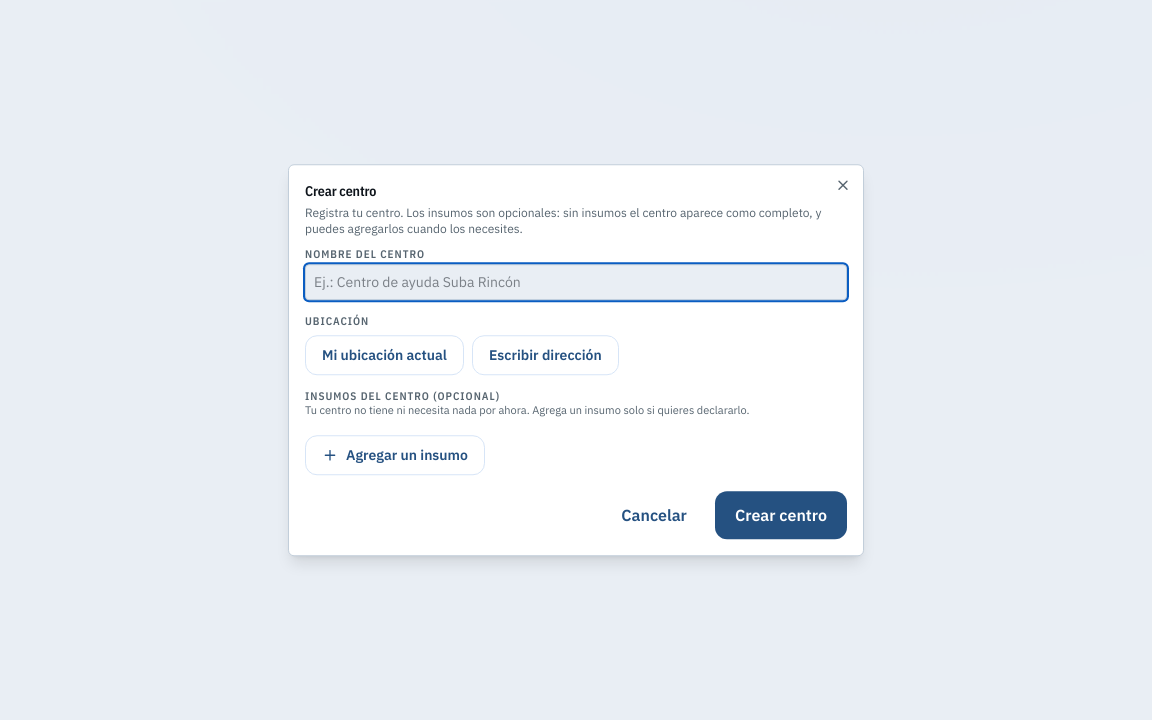
Test: CreateCenterDialog › stays open and shows the backend message when the creation is rejected
Type "Acopio Suba Norte" into the field labelled "Nombre del centro".
click(576, 282); type("Acopio Suba Norte")  # box [305,264,847,300]
Click the button "Mi ubicación actual".
click(384, 355)  # box [305,335,464,375]
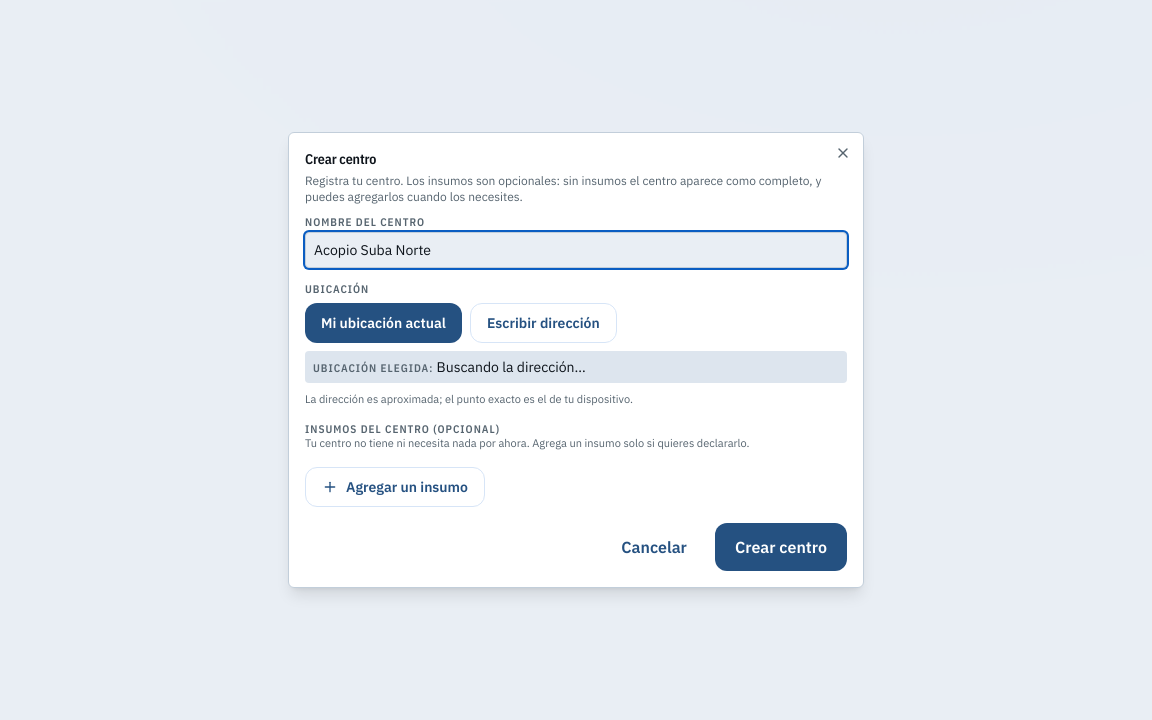
Click the button "Agregar un insumo".
click(395, 487)  # box [305,467,485,507]
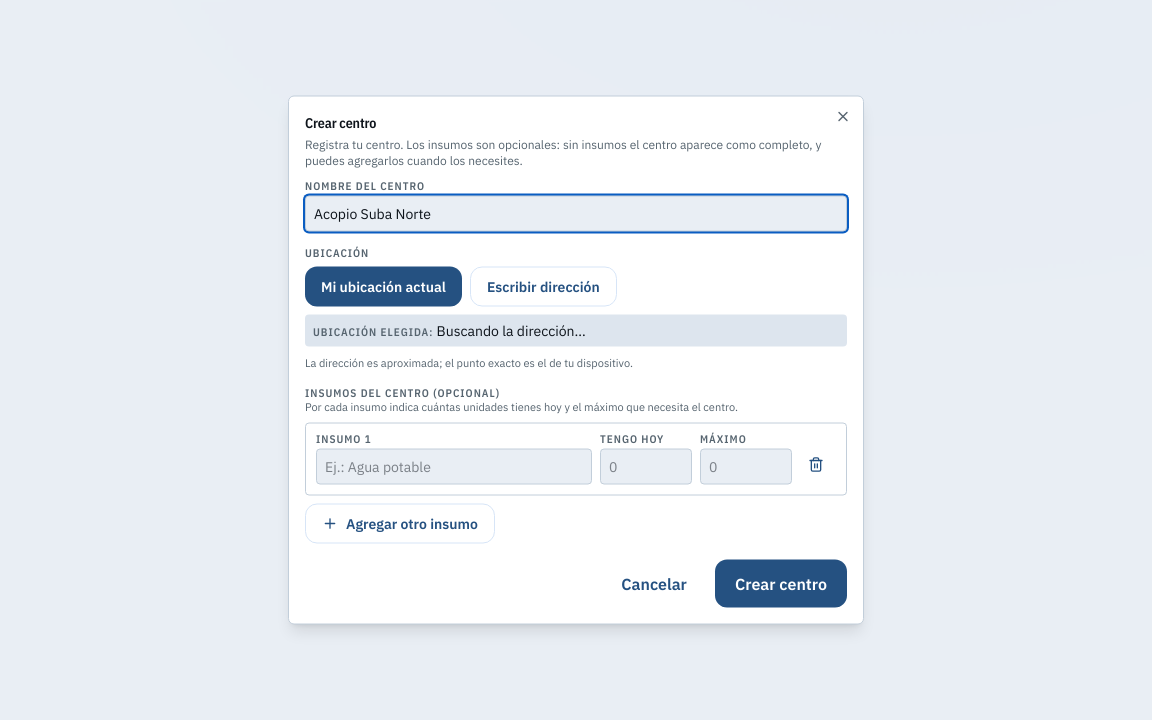
Type "Agua" into the field labelled "Insumo 1".
click(454, 466); type("Agua")  # box [316,448,592,484]
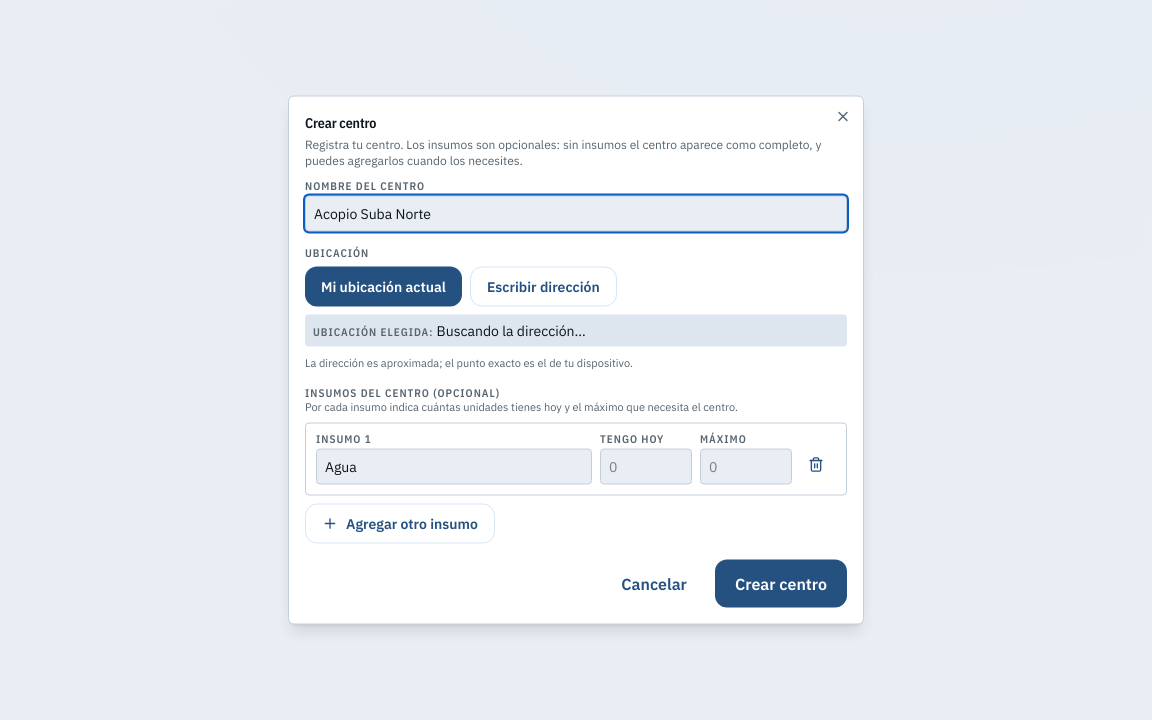
Type "1" into the field named "Cantidad actual del insumo 1".
click(646, 466); type("1")  # box [600,448,692,484]
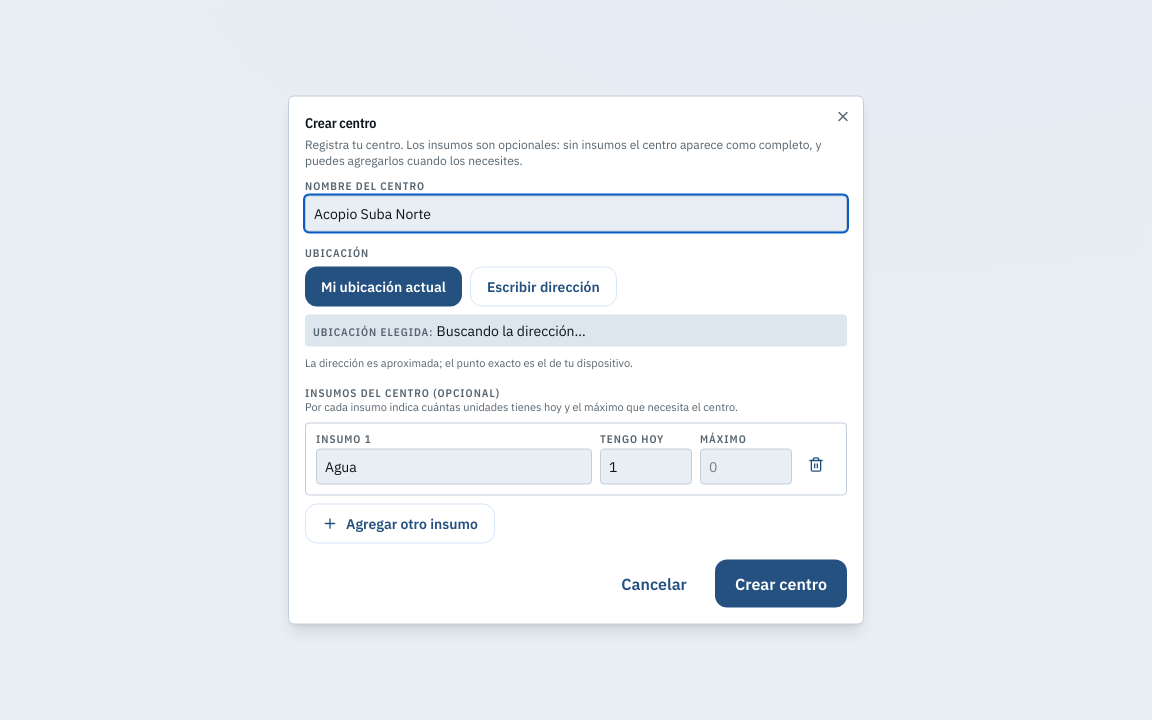
Type "5" into the field named "Cantidad máxima del insumo 1".
click(746, 466); type("5")  # box [700,448,792,484]
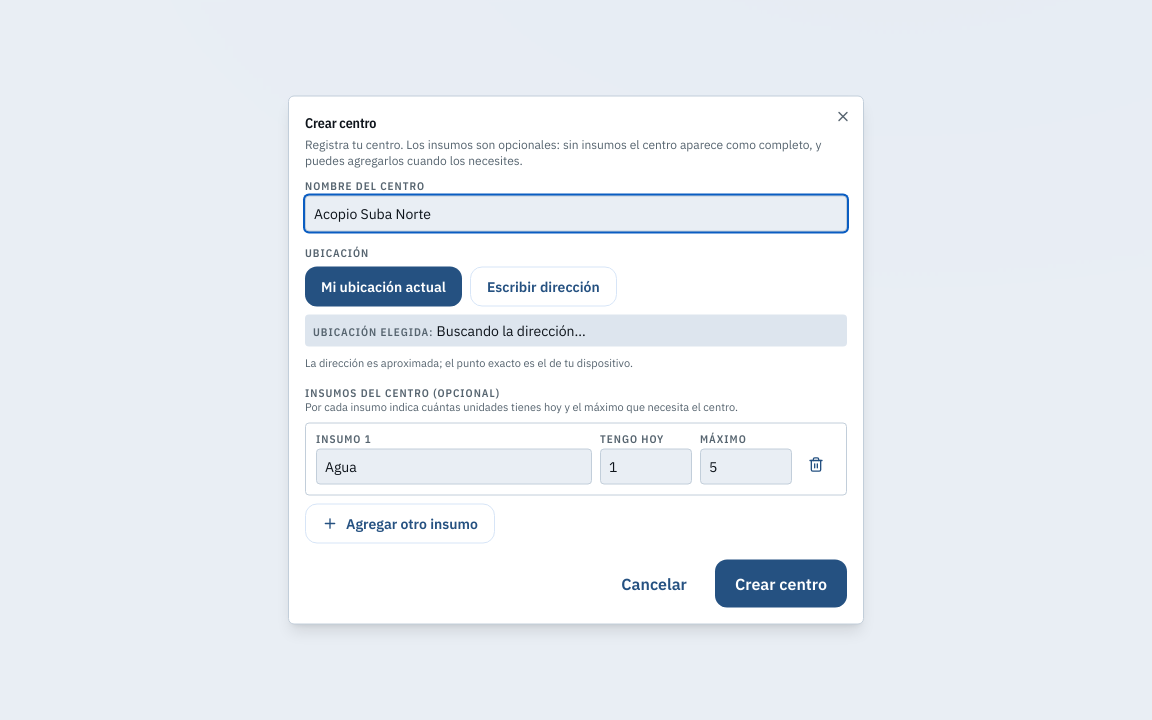
Click the button "Crear centro".
click(781, 584)  # box [715,560,847,608]
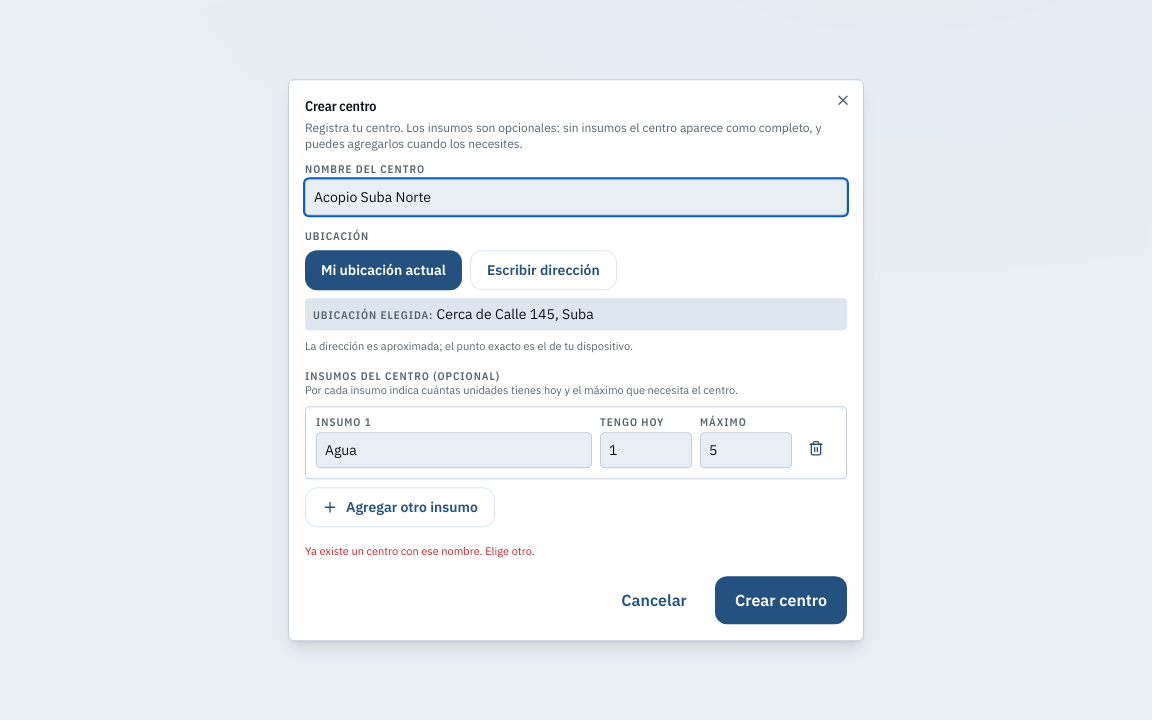
Expected: the text "Ya existe un centro con ese nombre. Elige otro." is shown, [305,544,535,558]
